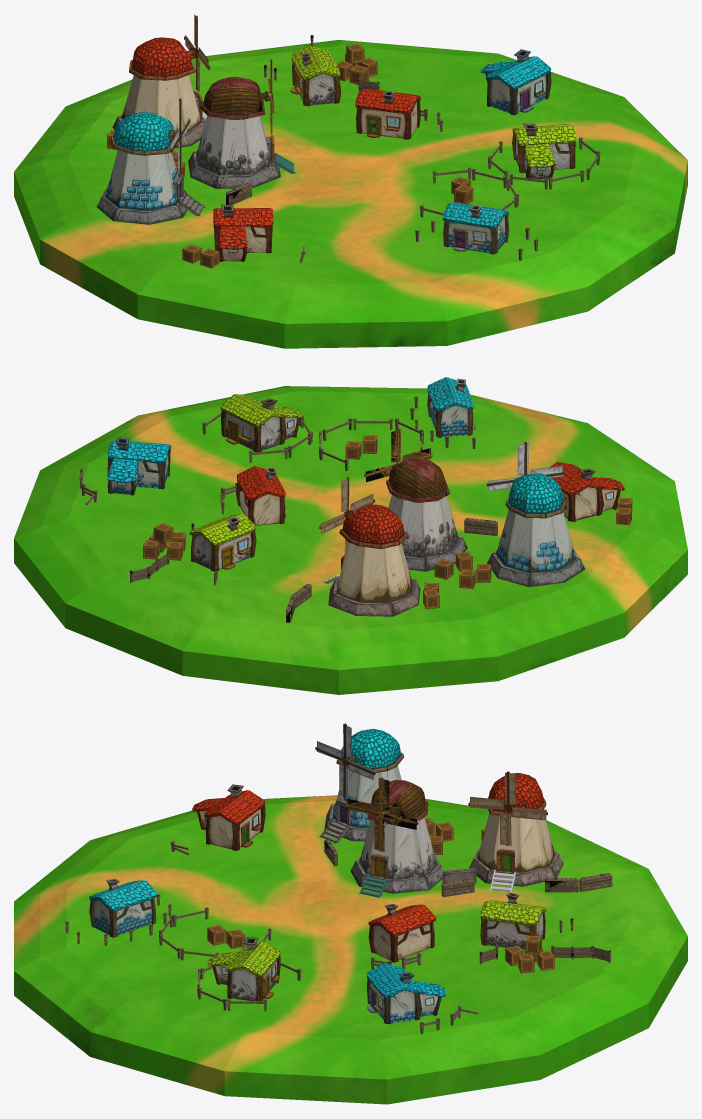
File: ComicCityShow.fbx
3 views of the same model, one above another, from view 1: azimuth 30°, elevation 25°; view 2: azimuth 150°, elevation 25°; view 3: azimuth 270°, elevation 25° (orthographic).
Parts seen in each view (by area): view 1: Cylinder, Windmill_bottom.001, Windmill_bottom.002, Windmill_bottom, HousePLUS_small, HousePLUS_small.002, HousePLUS_small.001, House_small.002, House_small, House_small.001, Windmill_head, Windmill_head.001 (+2 smaller); view 2: Cylinder, Windmill_bottom.002, Windmill_bottom, Windmill_bottom.001, HousePLUS_small.002, HousePLUS_small, House_small.001, HousePLUS_small.001, House_small, House_small.002, Windmill_head, Windmill_head.001 (+5 smaller); view 3: Cylinder, Windmill_bottom.001, Windmill_bottom, HousePLUS_small, HousePLUS_small.001, HousePLUS_small.002, House_small.002, House_small, House_small.001, Windmill_bottom.002, Windmill_head.002, Windmill_wings (+4 smaller).
Boxes of the visible parts, x1,y1,x2,y2 form: Cylinder: (14,40,687,348); Windmill_bottom.001: (188,115,280,188); Windmill_bottom.002: (97,150,187,224); Windmill_bottom: (112,75,205,148); HousePLUS_small: (480,49,551,115); HousePLUS_small.002: (512,123,575,180); HousePLUS_small.001: (213,204,273,261); House_small.002: (442,202,508,254); House_small: (355,88,420,139); House_small.001: (290,45,340,106); Windmill_head: (129,37,195,80); Windmill_head.001: (200,76,265,119); Cylinder: (14,386,687,694); Windmill_bottom.002: (487,509,585,586); Windmill_bottom: (328,542,420,616); Windmill_bottom.001: (388,495,467,571); HousePLUS_small.002: (220,394,303,452); HousePLUS_small: (107,437,171,495); House_small.001: (189,514,256,571); HousePLUS_small.001: (550,462,624,521); House_small: (236,466,286,525); House_small.002: (427,377,475,437); Windmill_head: (339,504,407,548); Windmill_head.001: (386,457,449,502); Cylinder: (14,795,687,1104); Windmill_bottom.001: (350,817,443,893); Windmill_bottom: (469,813,563,886); HousePLUS_small: (366,963,446,1024); HousePLUS_small.001: (192,784,265,850); HousePLUS_small.002: (207,937,280,1001); House_small.002: (89,879,156,937); House_small: (368,904,435,962); House_small.001: (480,892,546,949); Windmill_bottom.002: (324,765,401,841); Windmill_head.002: (336,728,403,772); Windmill_wings: (468,771,547,845).
Size of the model in its own units: 1899 by 469 by 1885.
